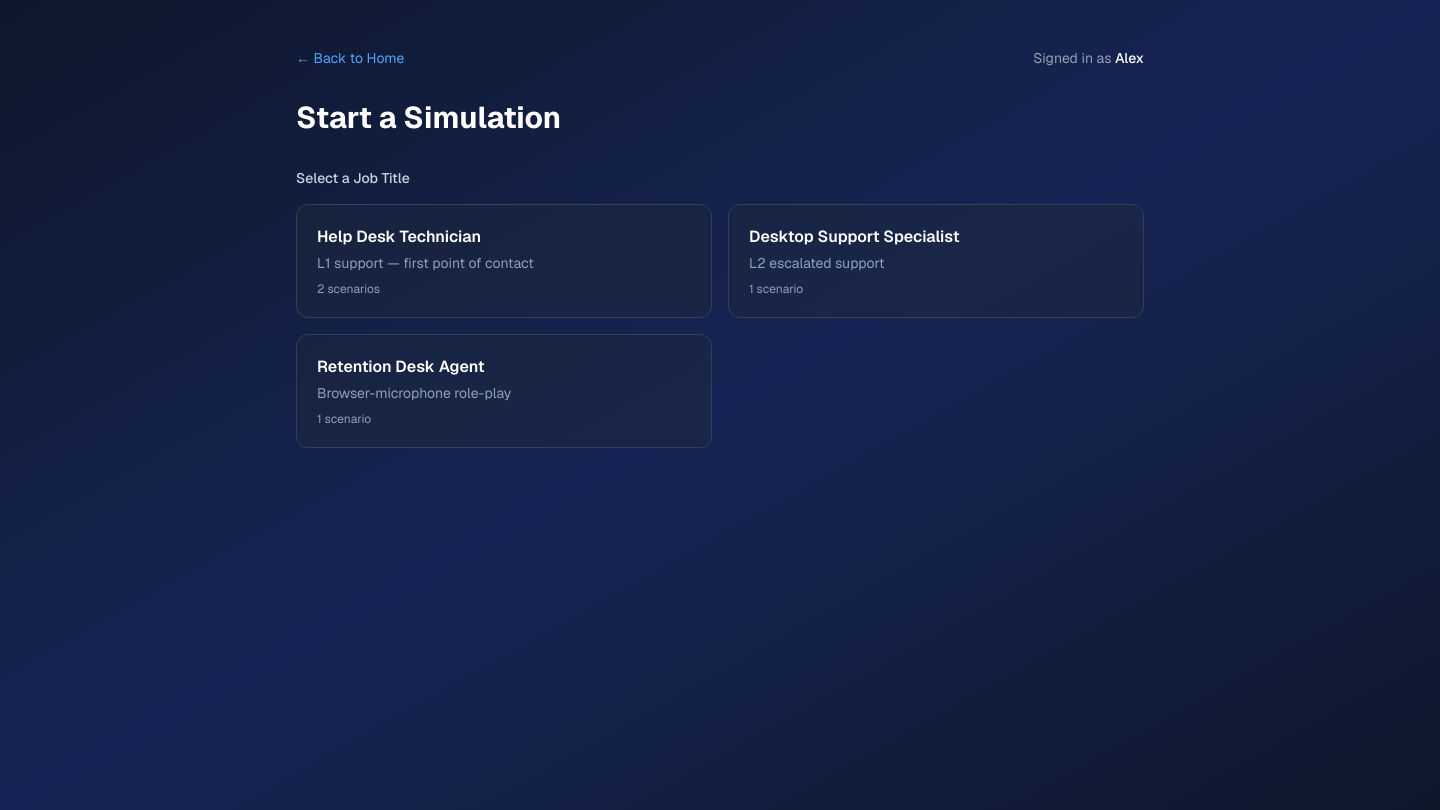
SimulatePage — job and scenario selection › shows error when start simulation fails
The width and height of the screenshot is (1440, 810).
Step 1. Click the heading "Help Desk Technician" → (399, 236), box [317,226,481,247]
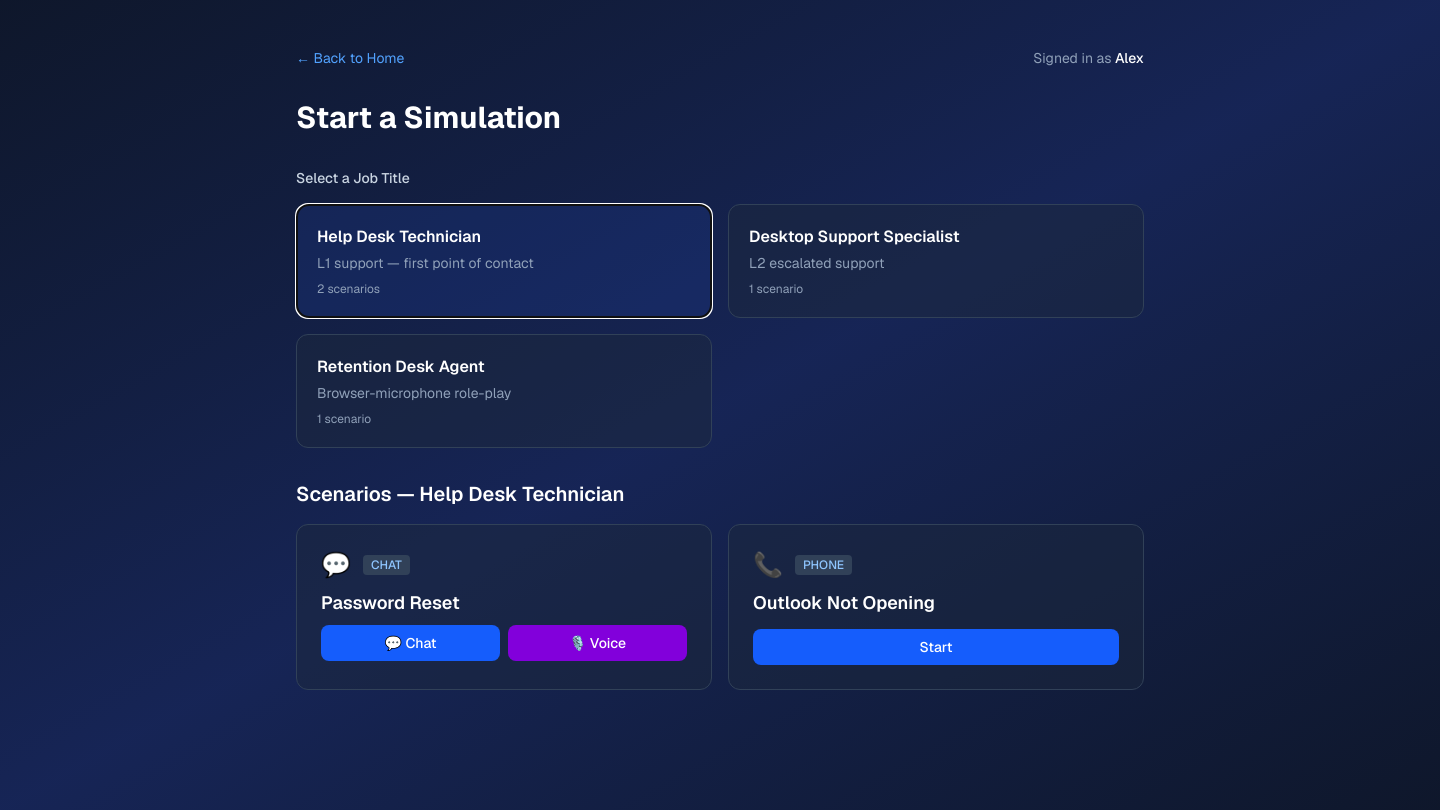
Step 2. Click the button "Start" → (936, 647), box [753,629,1119,665]
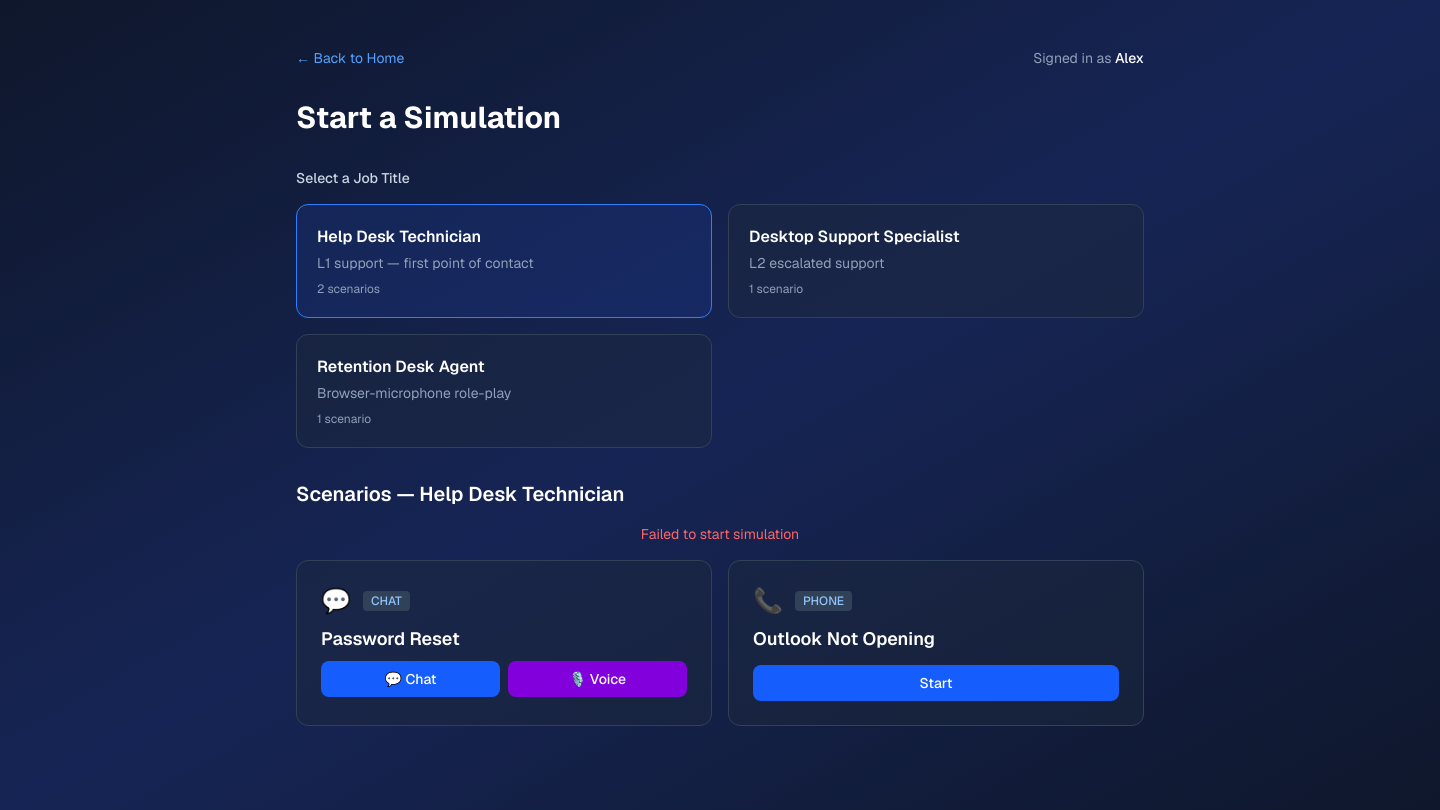
Expected: the text "Failed to start simulation" is shown, [641,525,799,543]
